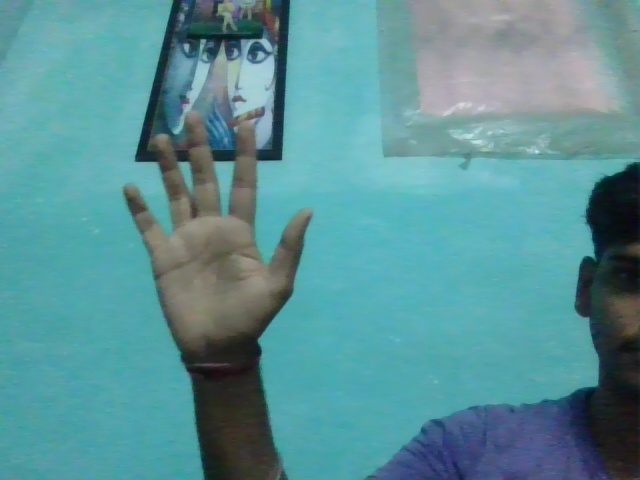hello: (116, 113, 318, 376)
